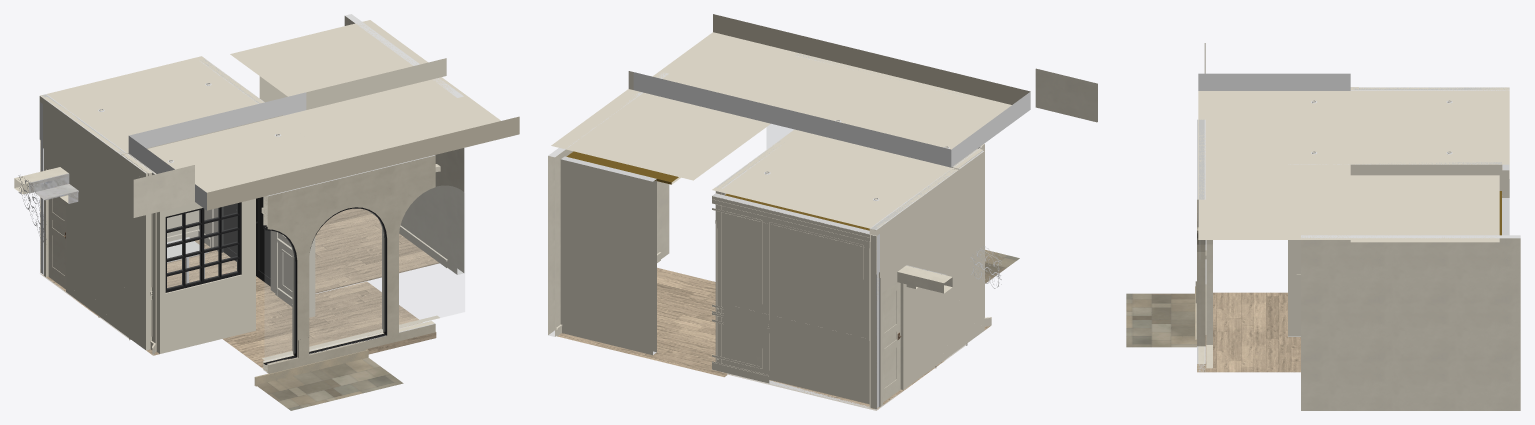
File: office-west-51b333db888f.glb
3 renders of one model, left to right at view 1: azimuth 30°, elevation 25°; view 2: azimuth 150°, elevation 25°; view 3: azimuth 270°, elevation 25°, orthographic. The views are drawn at different scales.
Parts seen in each view (by area): view 1: office-west-look-dbd60ee5c3733ed6, office-west-6a051330000fbca1, office-west-look-c9e78b9ec1bb39cd, office-west-look-2575515a05775d9e, office-west-2575515a05775d9e, office-west-look-c02a36d0521470a9, office-west-a822d30aa9e2c55a, office-west-look-5cbcc744e6f960f3, office-west-look-c374268555806af8, office-west-look-3b0077416469e01b, office-west-look-6a1144f4e43410bb, office-west-dbd60ee5c3733ed6 (+20 smaller); view 2: office-west-look-dbd60ee5c3733ed6, office-west-19647d6da46c2b80, office-west-6a051330000fbca1, office-west-look-19647d6da46c2b80, office-west-2575515a05775d9e, office-west-look-2575515a05775d9e, office-west-look-3b0077416469e01b, office-west-look-6a1144f4e43410bb, office-west-look-34525a54e63b733b, office-west-dbd60ee5c3733ed6, office-west-80d276f58a4dc5cb, office-west-72f8f5982ac3dc36 (+9 smaller); view 3: office-west-look-6a1144f4e43410bb, office-west-look-dbd60ee5c3733ed6, office-west-2575515a05775d9e, office-west-look-2575515a05775d9e, office-west-look-c374268555806af8, office-west-dbd60ee5c3733ed6, office-west-look-982408871810a50e, office-west-72f8f5982ac3dc36, office-west-look-c9e78b9ec1bb39cd, office-west-0811b6b476584948, office-west-look-e54cb06e326b7f4f, office-west-6a051330000fbca1 (+2 smaller).
Part boxes in pixels (x1,y1,x2,y2): office-west-look-dbd60ee5c3733ed6: (128, 77, 519, 210); office-west-6a051330000fbca1: (39, 94, 156, 351); office-west-look-c9e78b9ec1bb39cd: (263, 155, 435, 372); office-west-look-2575515a05775d9e: (230, 20, 446, 109); office-west-2575515a05775d9e: (40, 56, 282, 155); office-west-look-c02a36d0521470a9: (309, 209, 385, 349); office-west-a822d30aa9e2c55a: (156, 139, 307, 353); office-west-look-5cbcc744e6f960f3: (399, 186, 464, 327); office-west-look-c374268555806af8: (223, 281, 436, 370); office-west-look-3b0077416469e01b: (315, 208, 439, 293); office-west-look-6a1144f4e43410bb: (344, 14, 464, 274); office-west-dbd60ee5c3733ed6: (128, 116, 314, 173); office-west-look-dbd60ee5c3733ed6: (633, 14, 1030, 166); office-west-19647d6da46c2b80: (712, 193, 869, 407); office-west-6a051330000fbca1: (869, 146, 984, 408); office-west-look-19647d6da46c2b80: (560, 156, 656, 355); office-west-2575515a05775d9e: (712, 129, 958, 228); office-west-look-2575515a05775d9e: (551, 71, 770, 180); office-west-look-3b0077416469e01b: (557, 267, 727, 377); office-west-look-6a1144f4e43410bb: (548, 72, 669, 336); office-west-look-34525a54e63b733b: (1035, 68, 1097, 122); office-west-dbd60ee5c3733ed6: (794, 105, 983, 167); office-west-80d276f58a4dc5cb: (883, 283, 900, 402); office-west-72f8f5982ac3dc36: (715, 141, 784, 363); office-west-look-6a1144f4e43410bb: (1301, 235, 1520, 410); office-west-look-dbd60ee5c3733ed6: (1198, 73, 1350, 239); office-west-2575515a05775d9e: (1350, 87, 1509, 164); office-west-look-2575515a05775d9e: (1350, 175, 1499, 242); office-west-look-c374268555806af8: (1197, 292, 1300, 372); office-west-dbd60ee5c3733ed6: (1288, 90, 1350, 164); office-west-look-982408871810a50e: (1126, 293, 1196, 347); office-west-72f8f5982ac3dc36: (1288, 162, 1502, 336); office-west-look-c9e78b9ec1bb39cd: (1197, 119, 1205, 371); office-west-0811b6b476584948: (1350, 164, 1502, 171); office-west-look-e54cb06e326b7f4f: (1206, 240, 1212, 368); office-west-6a051330000fbca1: (1350, 87, 1509, 197).
Size of the model in its own units: 6.87 by 3.92 by 6.21.
30 materials, 9 textured.
